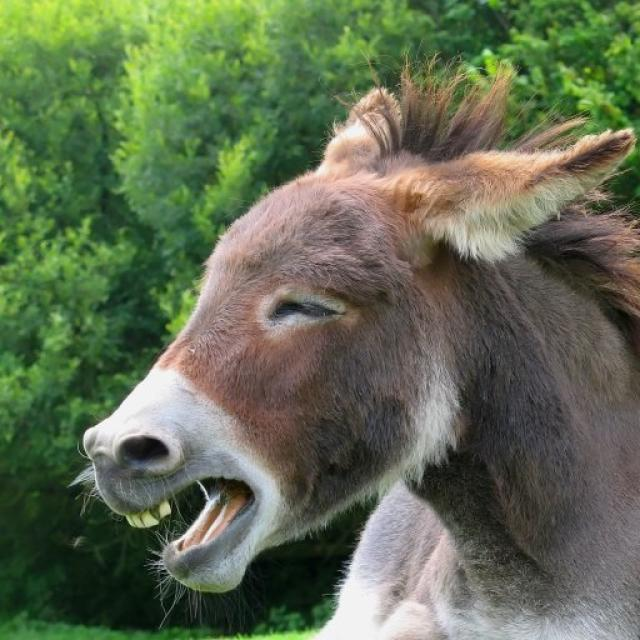Donkey: (80, 65, 640, 640)
